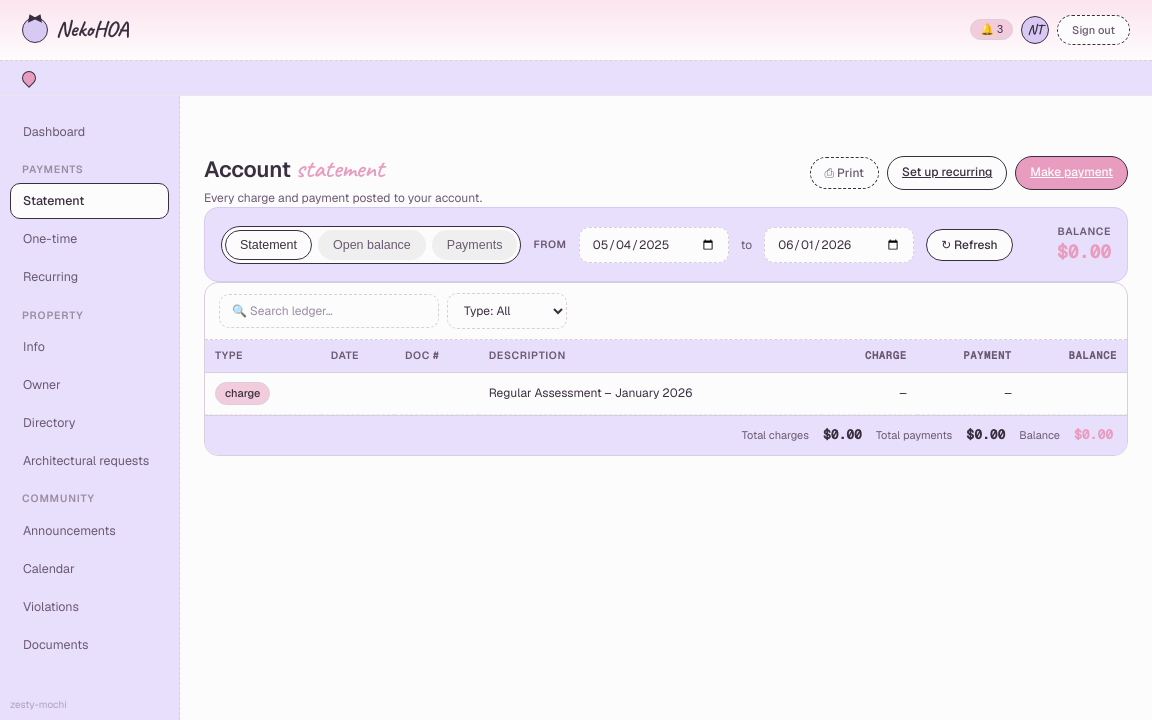
Payment history (statement Payments tab) › lazy-loads and renders the transaction history when the Payments tab is opened
Note: History is not fetched until the tab is opened.
Click the tab with test id "tab-payments" at x=475, y=245, box x1=432 y1=230 x2=518 y2=260
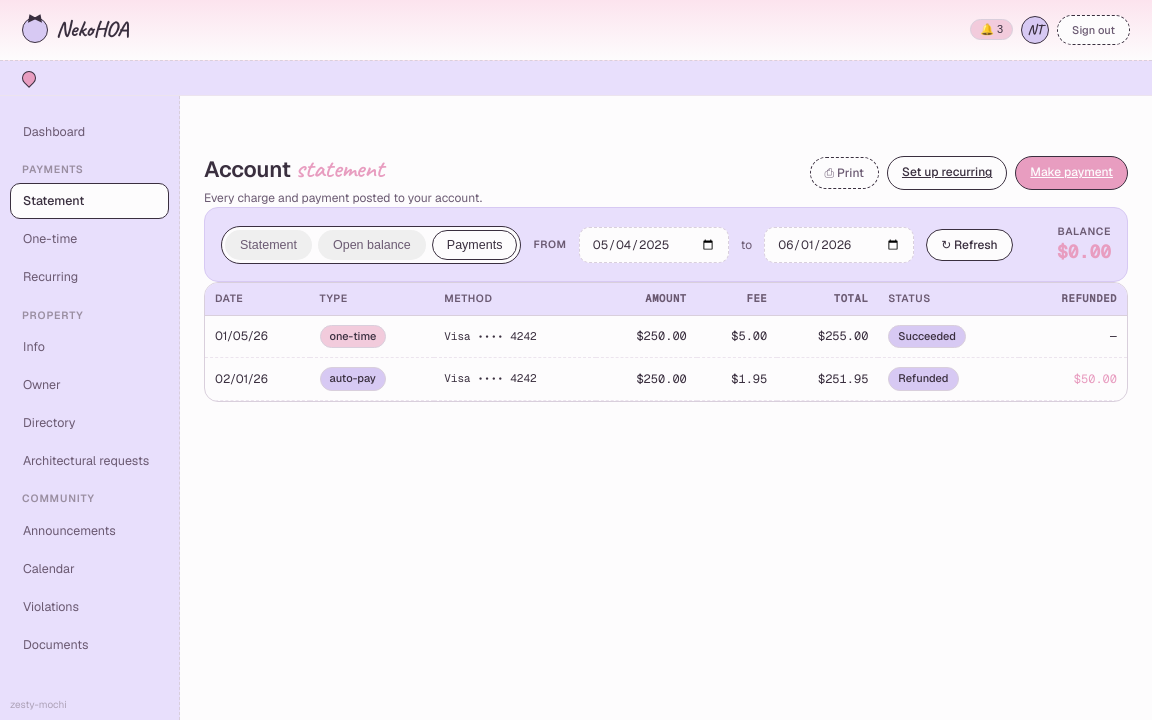
Expected: the table with test id "transactions-table" is shown, x1=205 y1=283 x2=1127 y2=401
Expected: the number of rows with test id "txn-row" is 2, x1=205 y1=316 x2=1127 y2=358; x1=205 y1=358 x2=1127 y2=401
Expected: the text "Visa •••• 4242" in the row of "01/05/26" is shown, x1=444 y1=329 x2=536 y2=343
